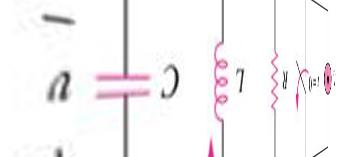inductor: (203, 37, 231, 124)
